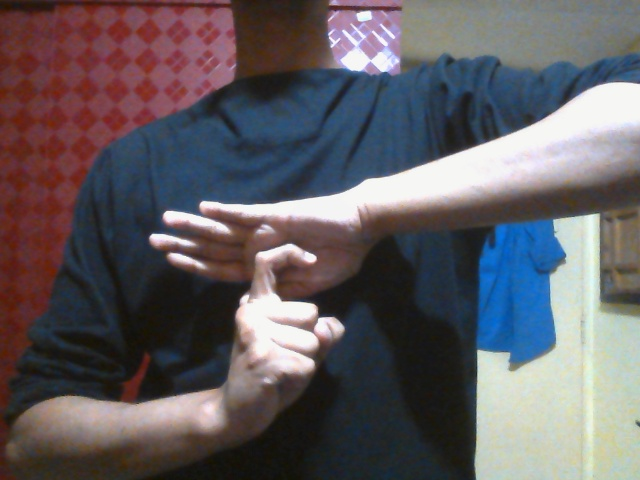R: (146, 197, 388, 428)
